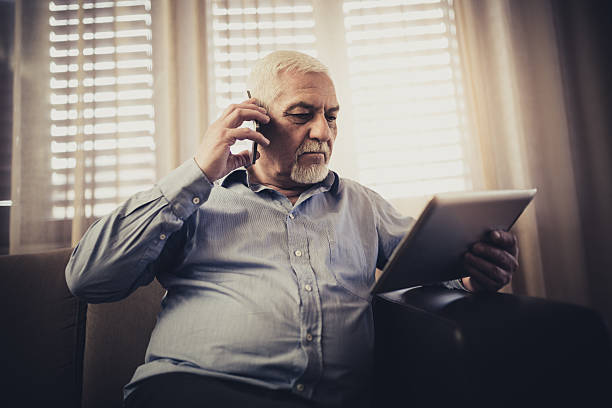phone: (236, 91, 269, 163)
talk: (195, 87, 348, 180)
